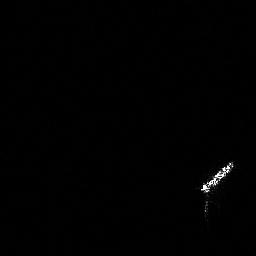ship: (196, 156, 240, 198)
